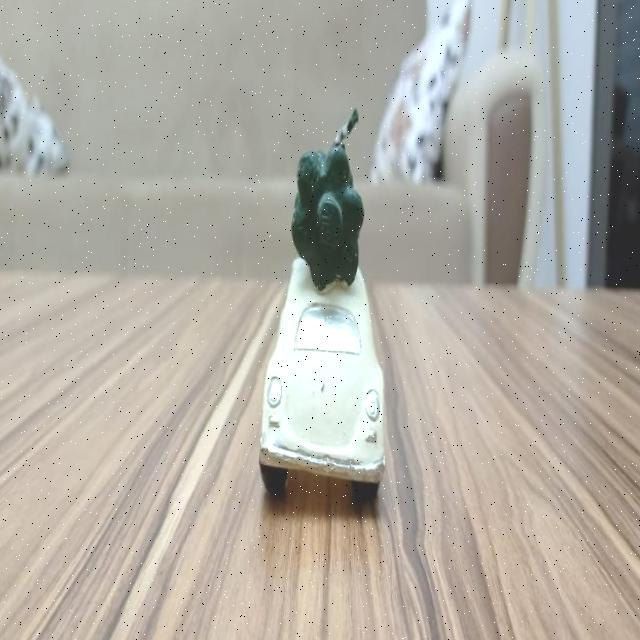car: (252, 263, 394, 489)
